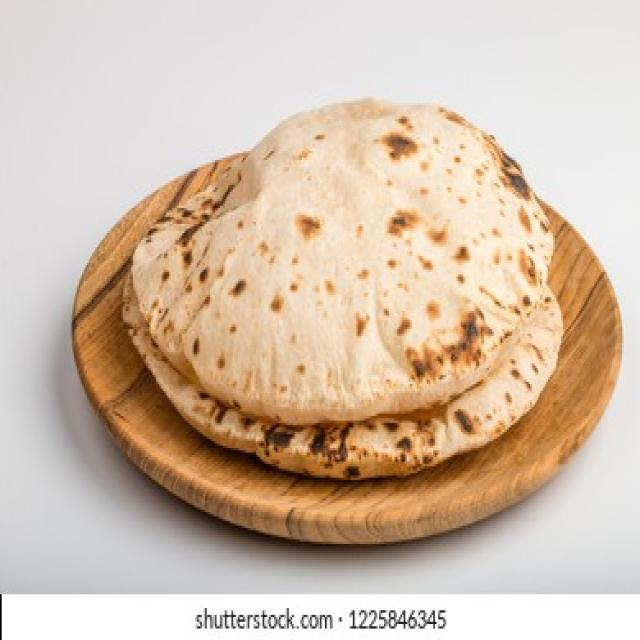ROTI: (128, 98, 555, 421)
